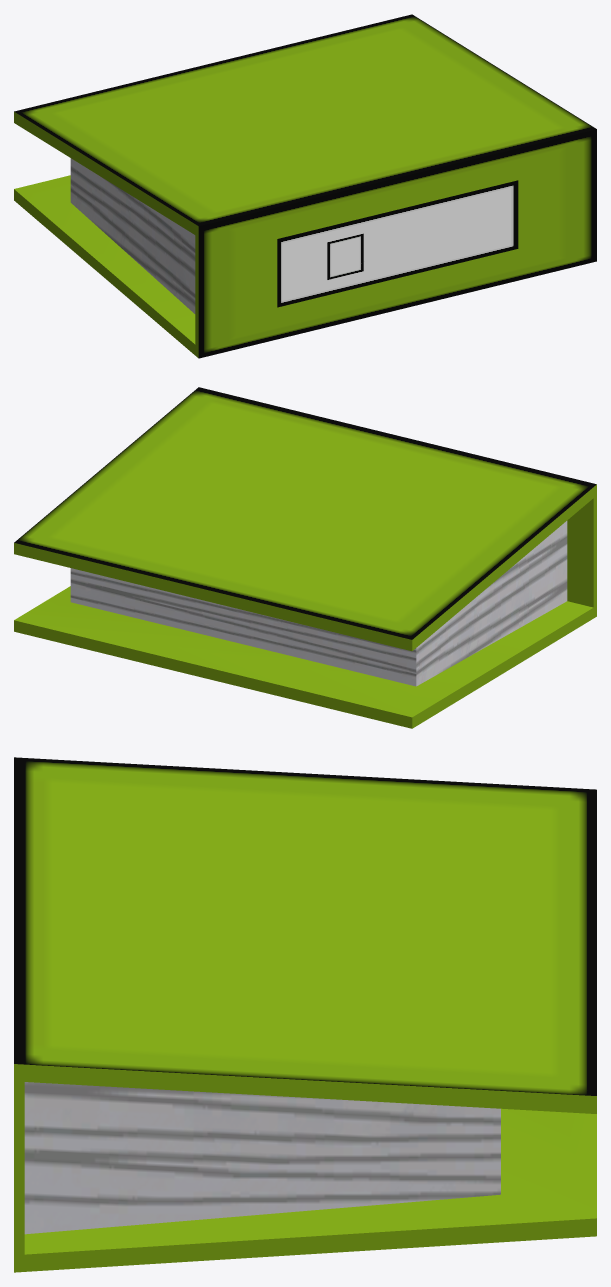
Rendered from Folder_Green_Individual.fbx.
3 views of the same model, one above another, from view 1: azimuth 30°, elevation 25°; view 2: azimuth 150°, elevation 25°; view 3: azimuth 270°, elevation 25° (orthographic). The views are drawn at different scales.
Visible parts, largest first — view 1: Folder3; view 2: Folder3; view 3: Folder3.
Boxes of the visible parts, x1,y1,x2,y2 form: Folder3: (14, 14, 596, 358); Folder3: (14, 387, 596, 728); Folder3: (14, 757, 596, 1272).
Size of the model in its own units: 37.28 by 11.83 by 29.96.
